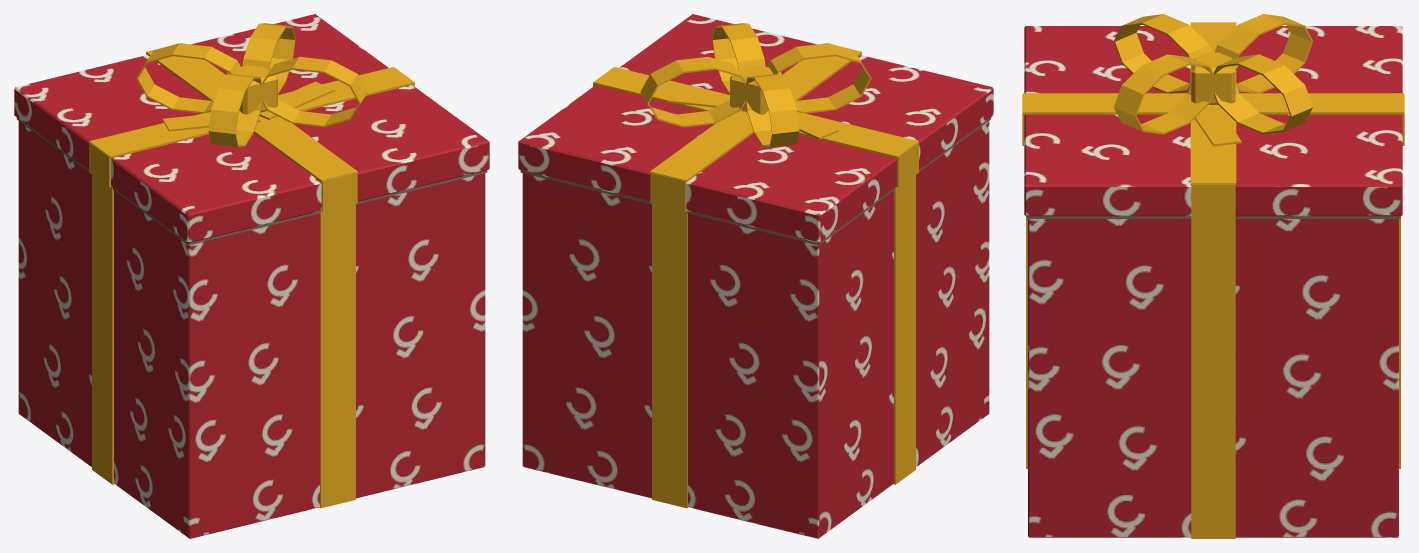
Rendered from party_gift_red.glb.
3 views of the same model, side by side, from view 1: azimuth 30°, elevation 25°; view 2: azimuth 150°, elevation 25°; view 3: azimuth 270°, elevation 25° (orthographic). The views are drawn at different scales.
Visible parts, largest first — view 1: party_gift_red; view 2: party_gift_red; view 3: party_gift_red.
Part boxes in pixels (x1,y1,x2,y2): party_gift_red: [14, 14, 489, 538]; party_gift_red: [518, 14, 993, 538]; party_gift_red: [1022, 14, 1404, 538].
Size of the model in its own units: 0.303 by 0.3634 by 0.303.
Materials: 3 (1 with a texture image).
